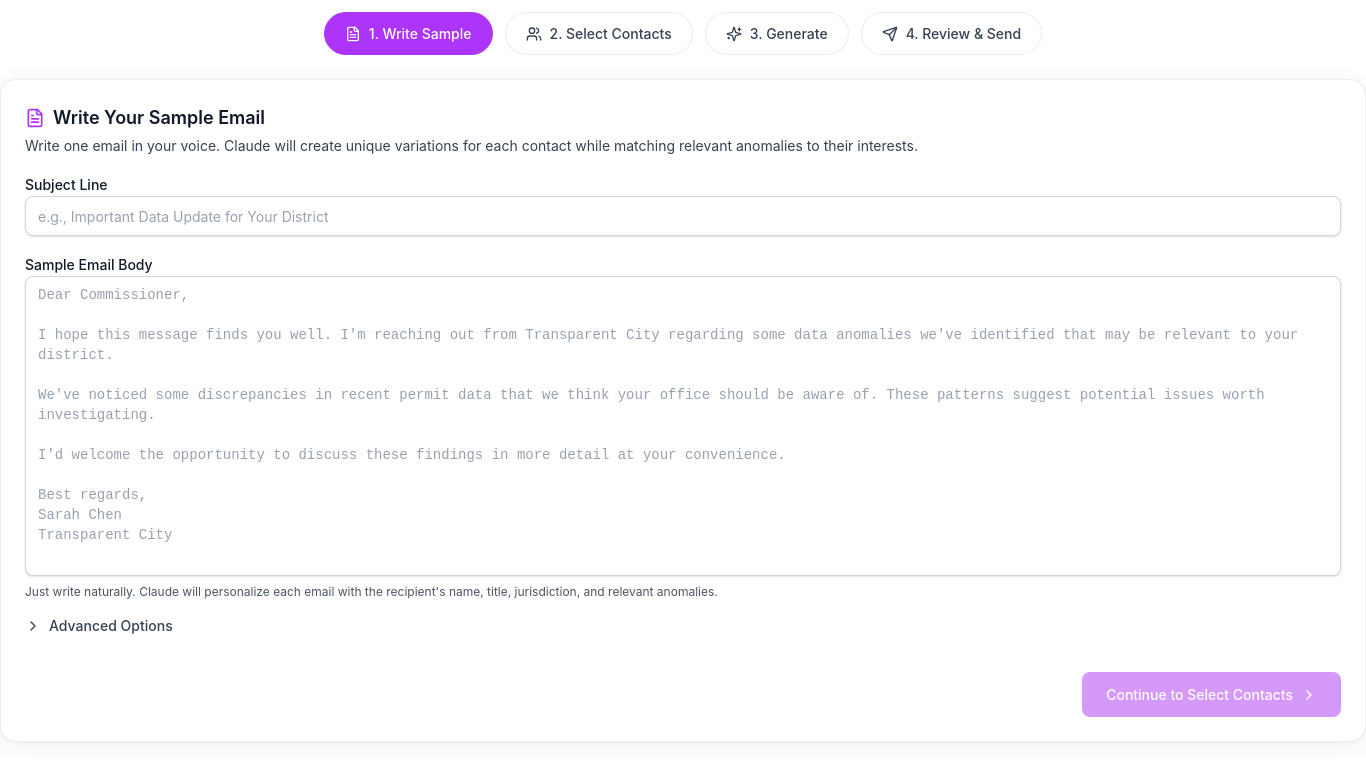
AIEmailComposer › selects and deselects contacts on click
Type "Hi there, here is some data we found." into the text box with placeholder "Dear Commissioner" at (683, 426), box 25,276 -> 1341,576
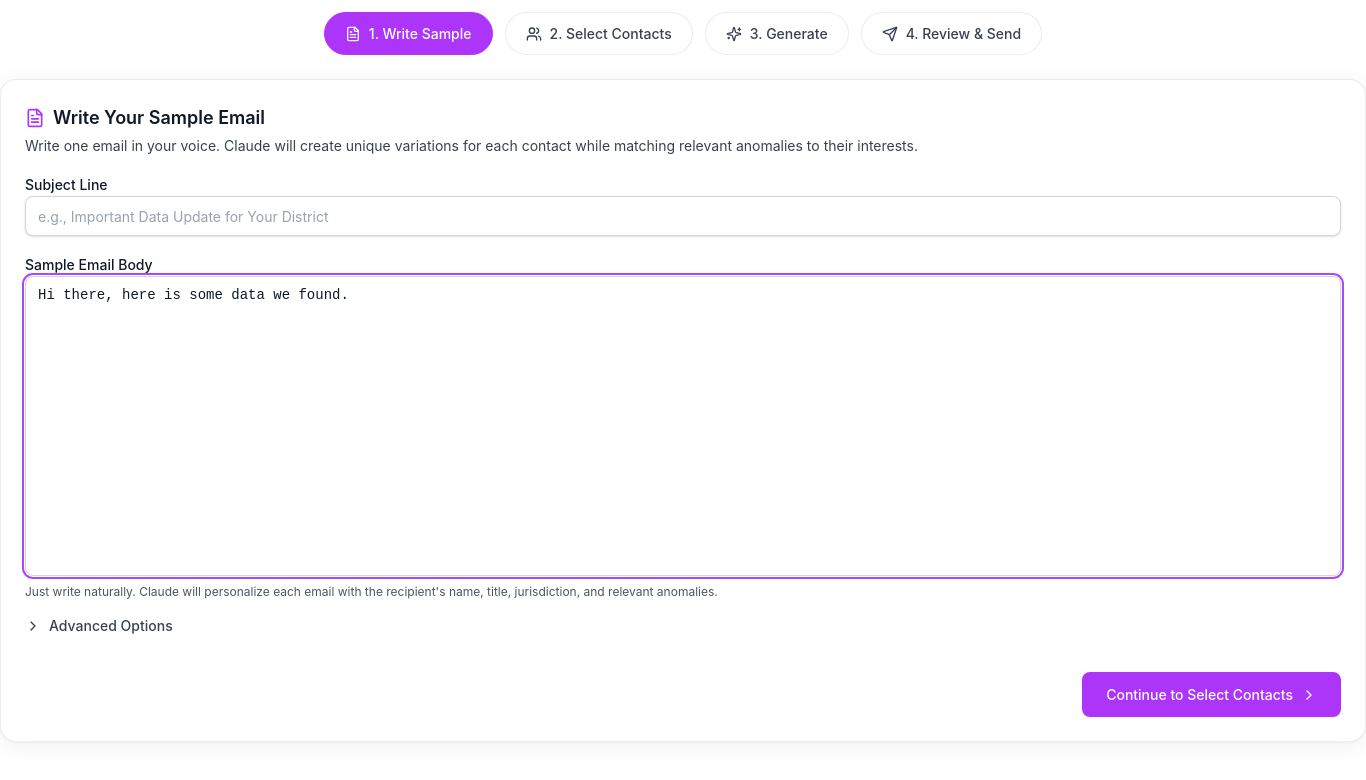
Type "Data update for your district" into the field with placeholder "e.g., Important Data Update for Your District" at (683, 216), box 25,196 -> 1341,236
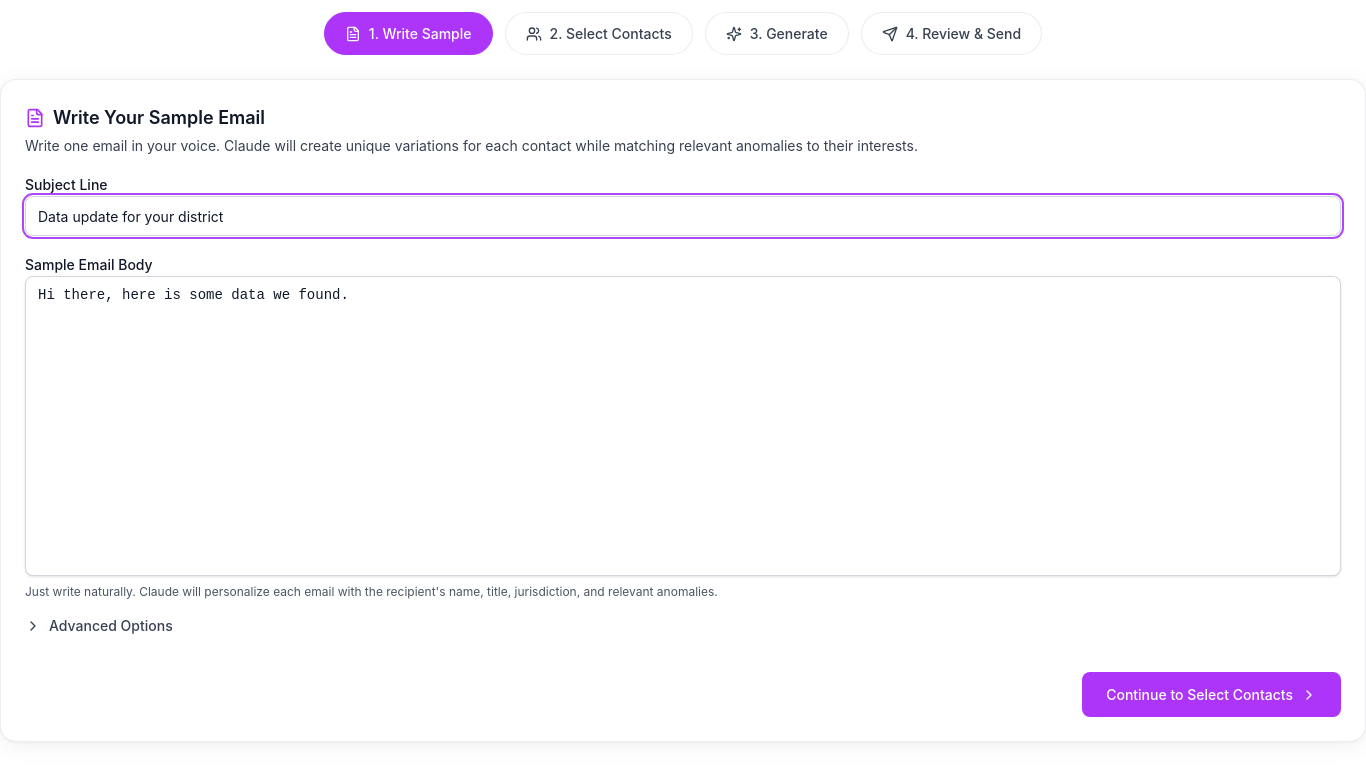
Click the button "Continue to Select Contacts" at (1212, 694), box 1082,672 -> 1341,717
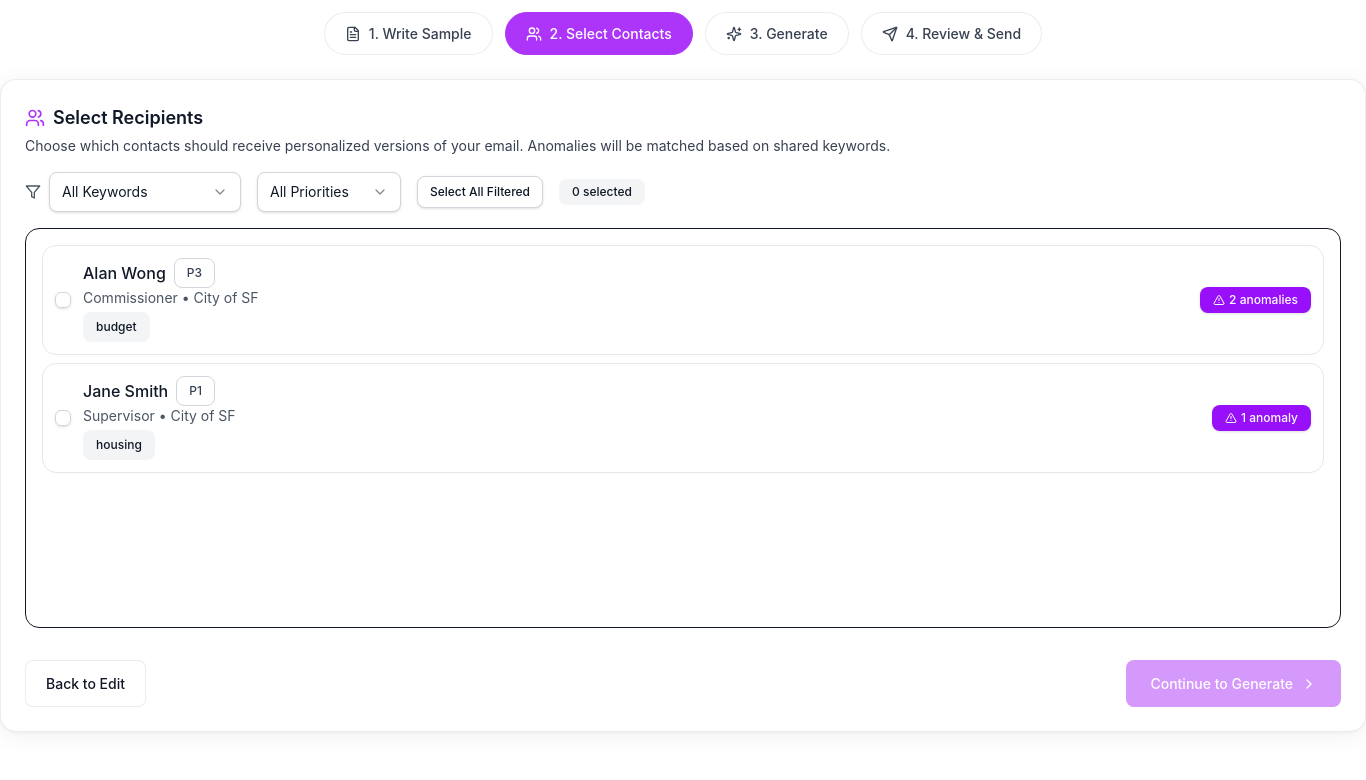
Click the text "Alan Wong" at (683, 300), box 42,245 -> 1324,355
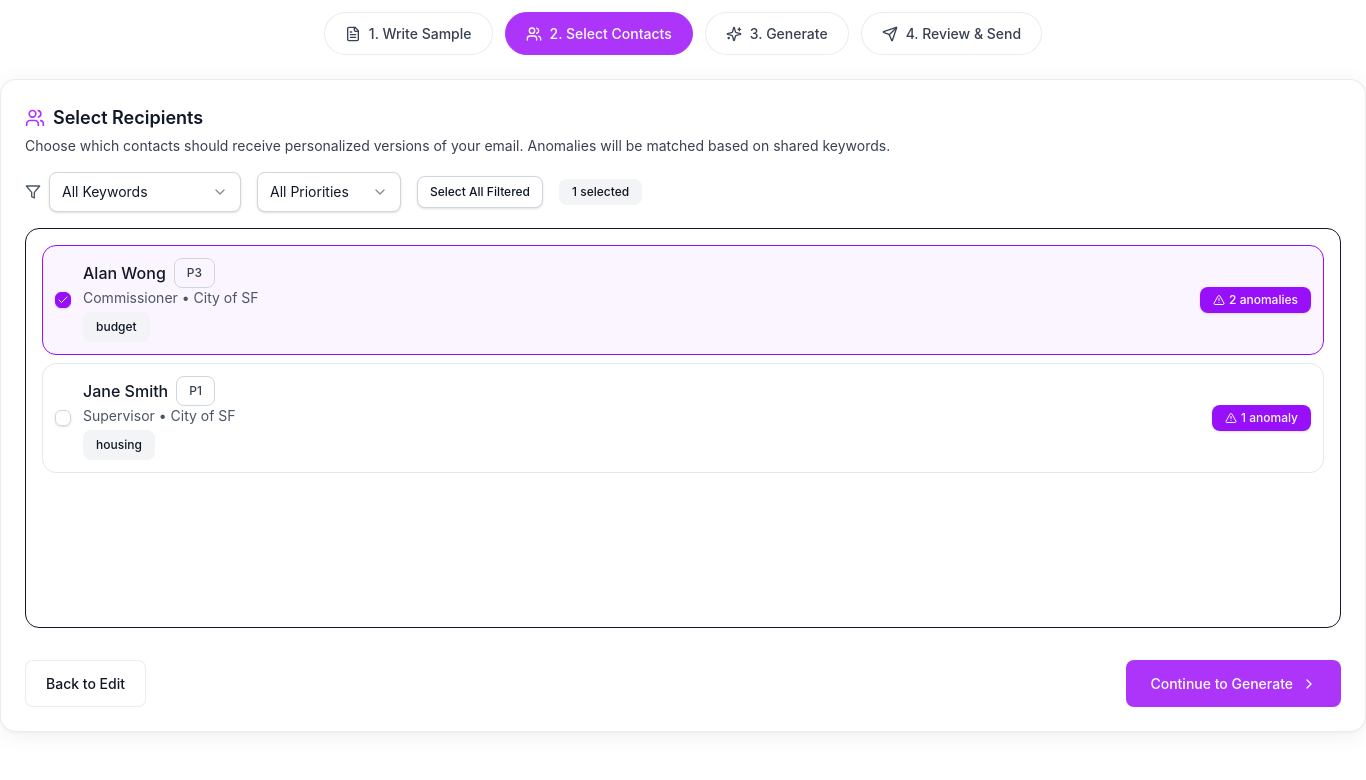
expect the text "1 selected" is shown: met, box 559,179 -> 642,205
Click the text "Jane Smith" at (683, 418), box 42,363 -> 1324,473
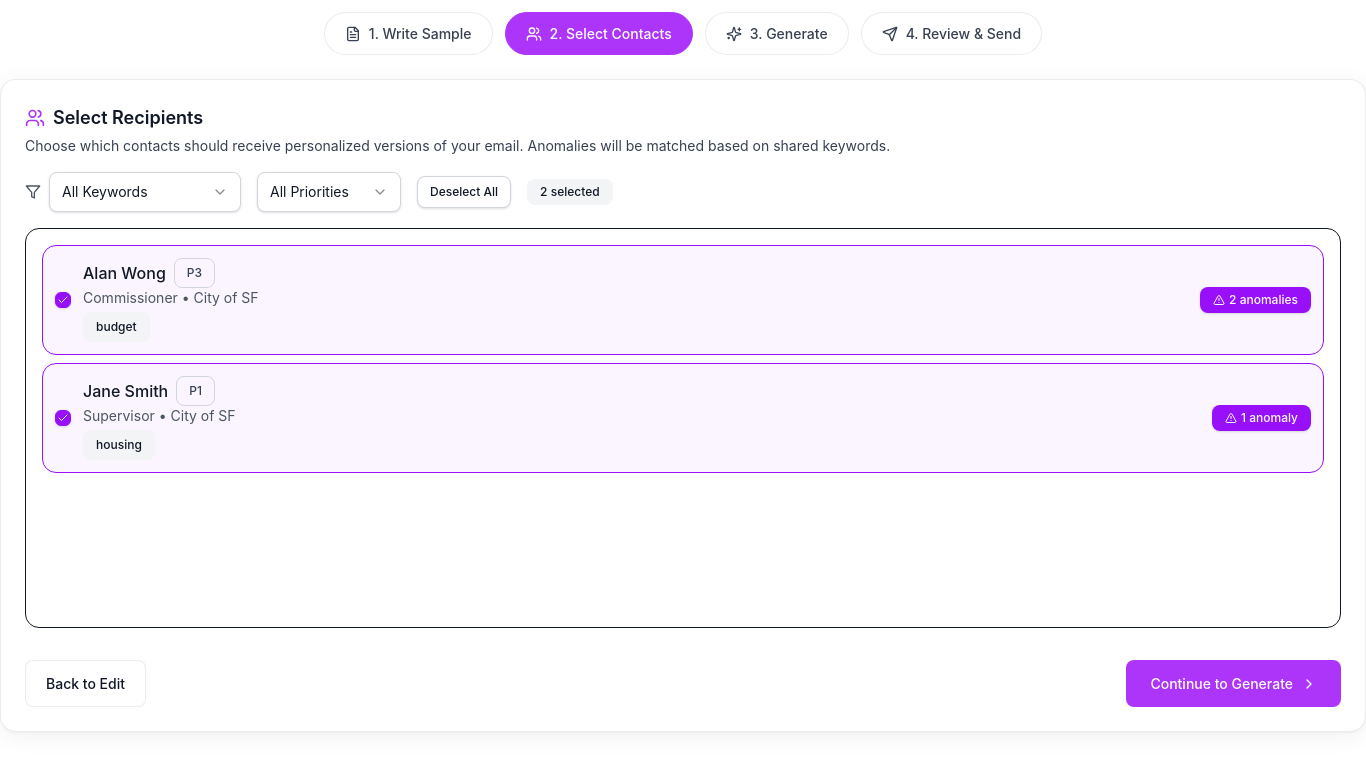
expect the text "2 selected" is shown: met, box 527,179 -> 613,205
Click the text "Alan Wong" at (683, 300), box 42,245 -> 1324,355
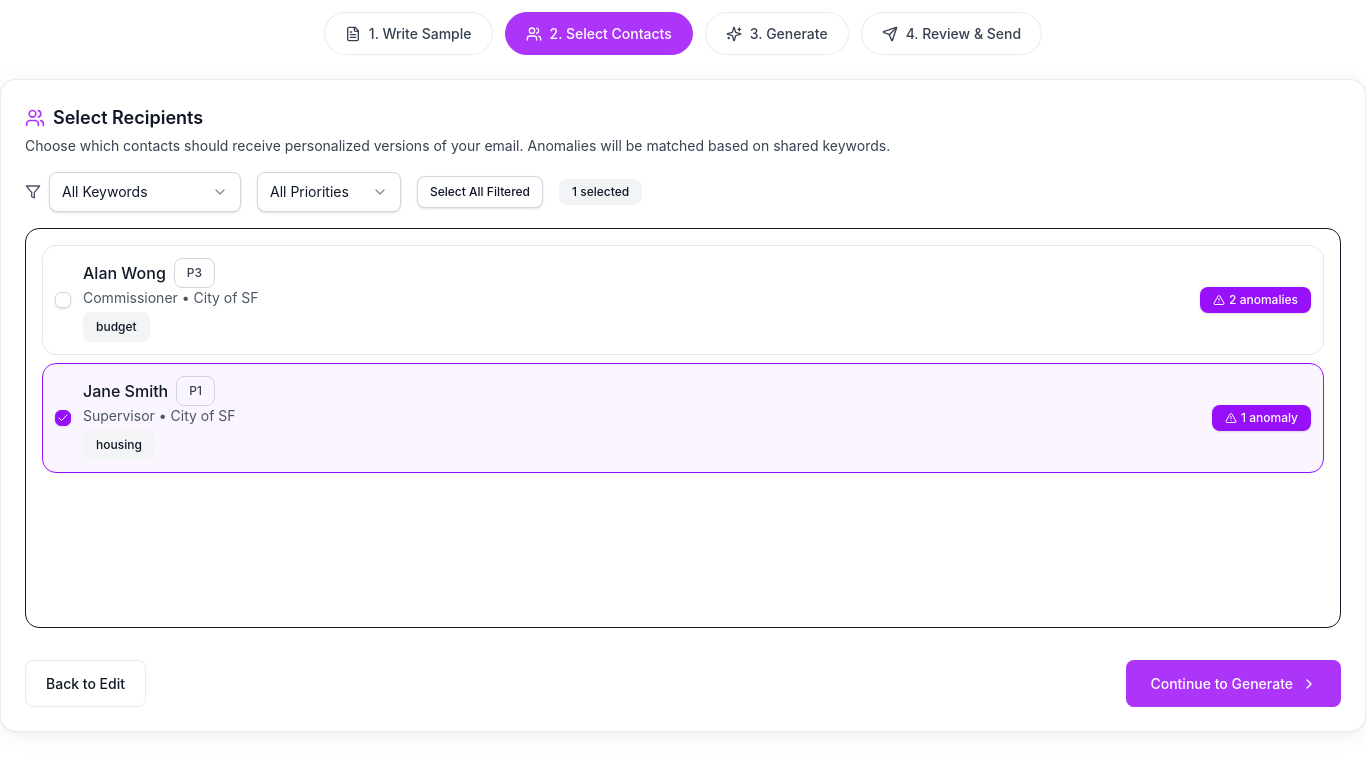
expect the text "1 selected" is shown: met, box 559,179 -> 642,205
